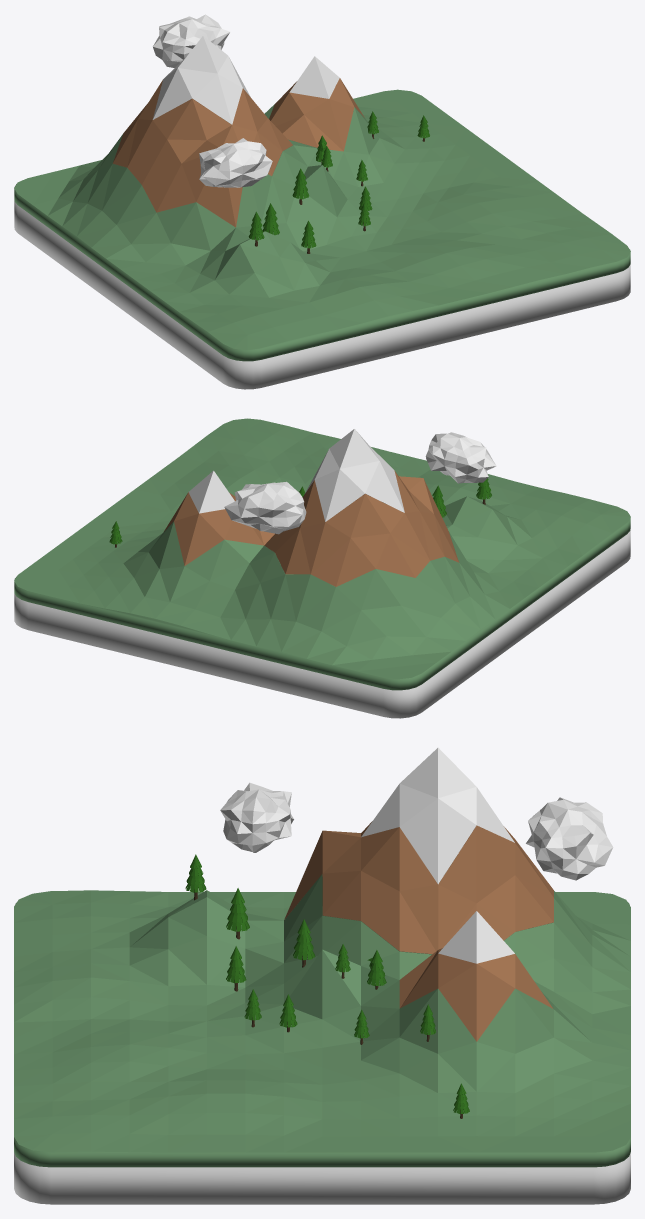
File: mountain-scene_draco2.glb
3 views of the same model, one above another, from view 1: azimuth 30°, elevation 25°; view 2: azimuth 150°, elevation 25°; view 3: azimuth 270°, elevation 25° (orthographic). The views are drawn at different scales.
Visible parts, largest first — view 1: asphalt.001, base, asphalt, cloud.001, Tree2, cloud.002; view 2: asphalt.001, base, asphalt, cloud.002, cloud.001, Tree2; view 3: asphalt.001, base, asphalt, cloud.002, Tree2, cloud.001.
Boxes of the visible parts, <box> form: asphalt.001: <box>14,36,630,350</box>; base: <box>14,200,630,389</box>; asphalt: <box>14,140,630,361</box>; cloud.001: <box>199,138,272,187</box>; Tree2: <box>248,111,429,253</box>; cloud.002: <box>153,14,229,67</box>; asphalt.001: <box>14,418,630,679</box>; base: <box>14,529,630,718</box>; asphalt: <box>14,514,630,690</box>; cloud.002: <box>224,481,306,534</box>; cloud.001: <box>425,432,496,483</box>; Tree2: <box>109,478,491,547</box>; asphalt.001: <box>14,747,630,1152</box>; base: <box>14,1152,630,1204</box>; asphalt: <box>14,902,630,1167</box>; cloud.002: <box>526,797,613,880</box>; Tree2: <box>185,854,469,1118</box>; cloud.001: <box>220,782,293,852</box>.
Size of the model in its own units: 10 by 4.97 by 10.
